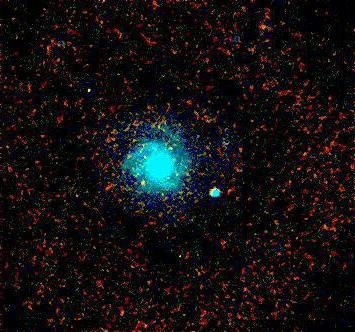star: (126, 168, 156, 198)
